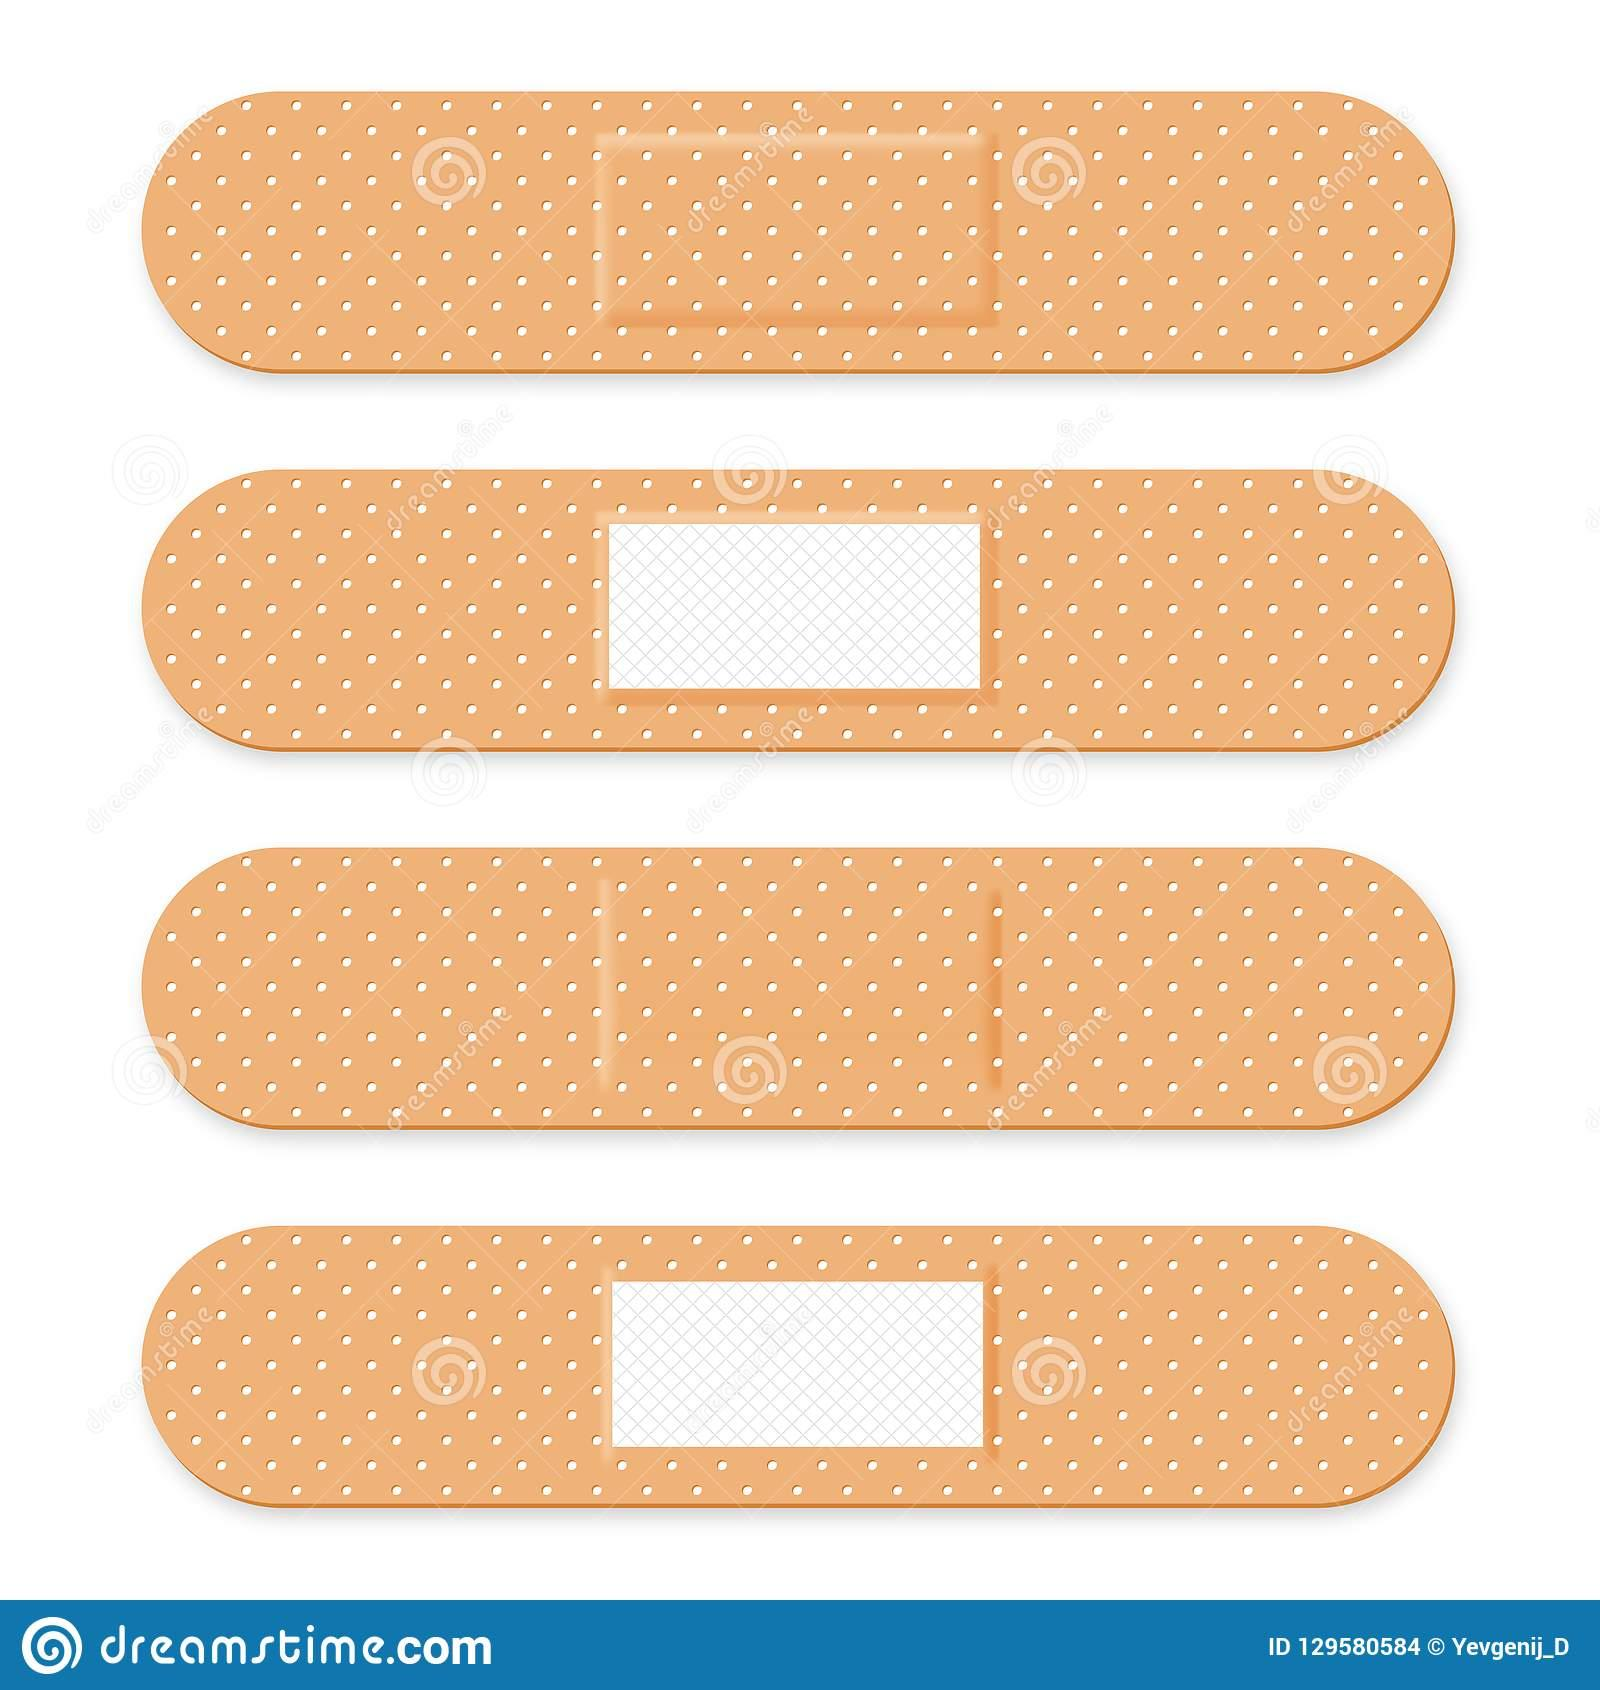bandage: (141, 1218, 1466, 1517), (137, 840, 1457, 1129), (147, 468, 1457, 753), (150, 90, 1450, 374)
